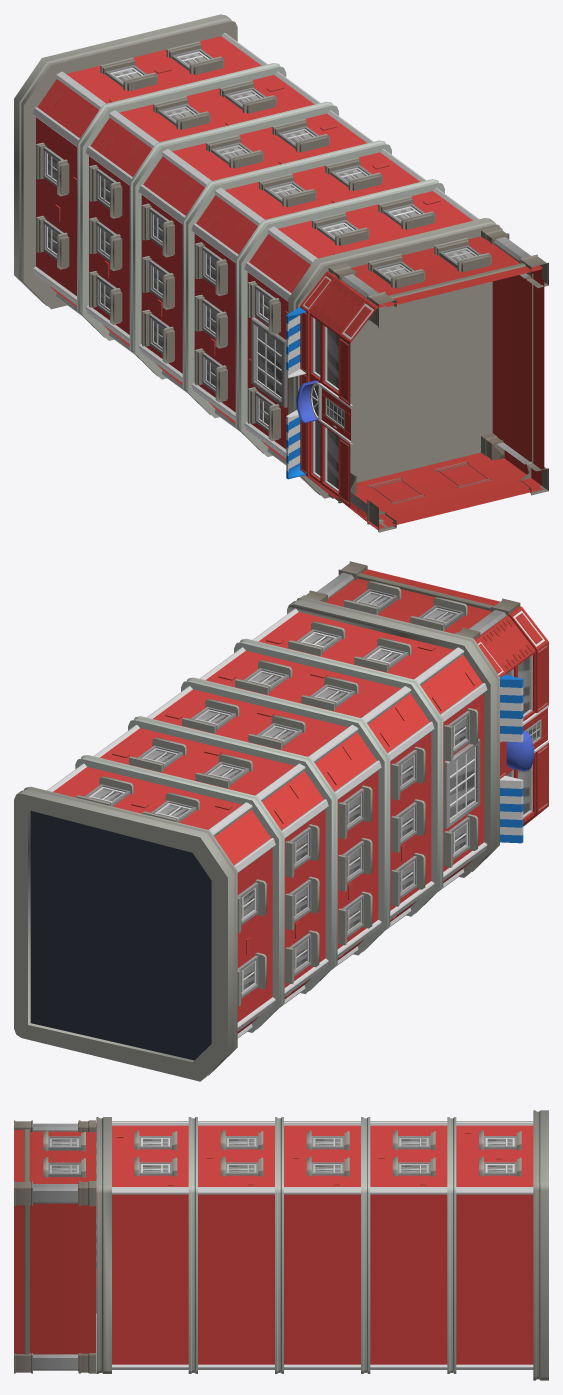
Rendered from Building_3_4_A.fbx.
3 views of the same model, one above another, from view 1: azimuth 30°, elevation 25°; view 2: azimuth 150°, elevation 25°; view 3: azimuth 270°, elevation 25° (orthographic). The views are drawn at different scales.
Visible parts, largest first — view 1: Building 3_4_A; view 2: Building 3_4_A; view 3: Building 3_4_A.
Part boxes in pixels (left/top/right/bottom): Building 3_4_A: left=14, top=14, right=548, bottom=532; Building 3_4_A: left=14, top=561, right=548, bottom=1081; Building 3_4_A: left=14, top=1110, right=548, bottom=1380.
Size of the model in its own units: 808 by 837 by 2041.
